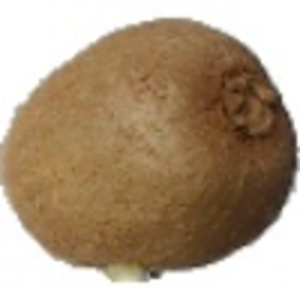kiwi: (1, 16, 300, 287)
